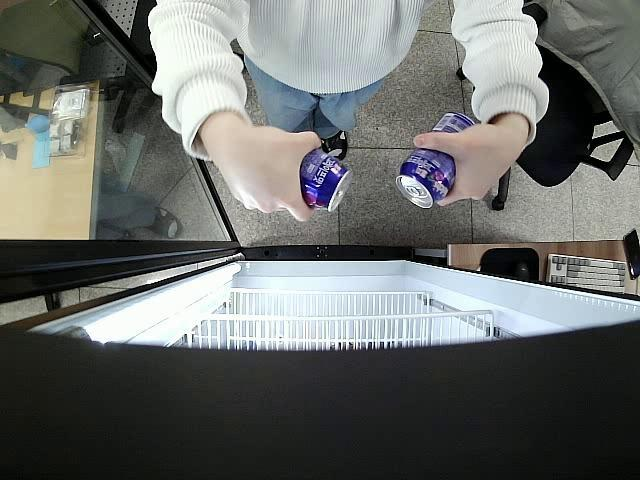14_welchsGrape: (396, 111, 475, 207), (300, 144, 355, 214)
